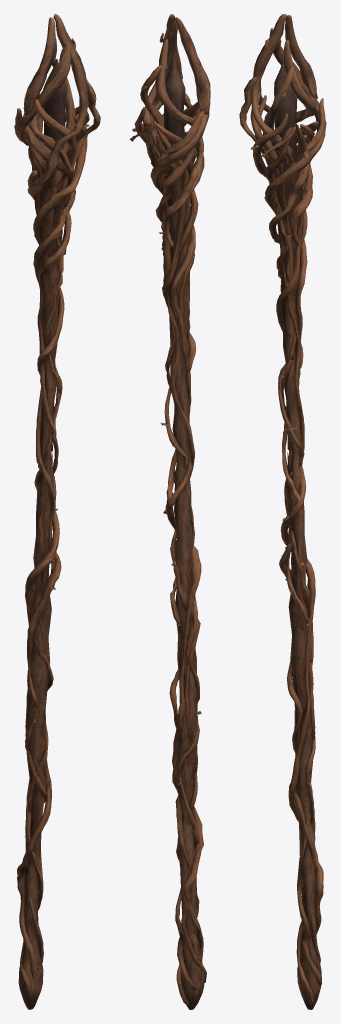
File: light_staff.glb
3 views of the same model, side by side, from view 1: azimuth 90°, elevation 25°; view 2: azimuth 210°, elevation 25°; view 3: azimuth 270°, elevation 25° (orthographic).
Parts seen in each view (by area): view 1: geometry_0; view 2: geometry_0; view 3: geometry_0.
Boxes of the visible parts, left/top/right/bottom form: geometry_0: left=14, top=14, right=100, bottom=1009; geometry_0: left=129, top=14, right=210, bottom=1009; geometry_0: left=239, top=14, right=326, bottom=1009.
Size of the model in its own units: 0.0615 by 0.9502 by 0.0752.
1 material, 1 textured.
